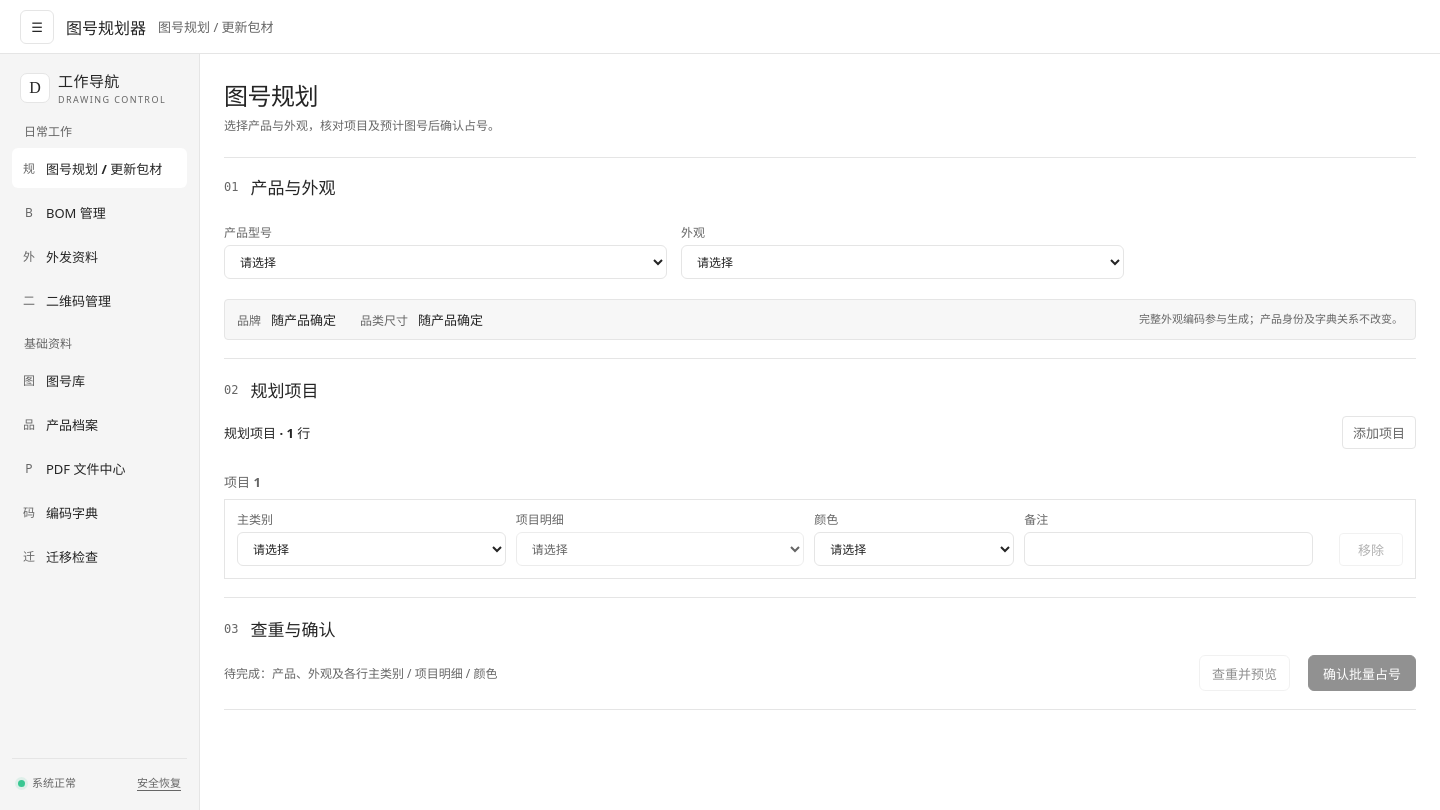
Test: safe recovery surface › shows an explicit desktop-only explanation in browser preview
Click the button "安全恢复". click: (159,784)
box: [137, 773, 181, 794]
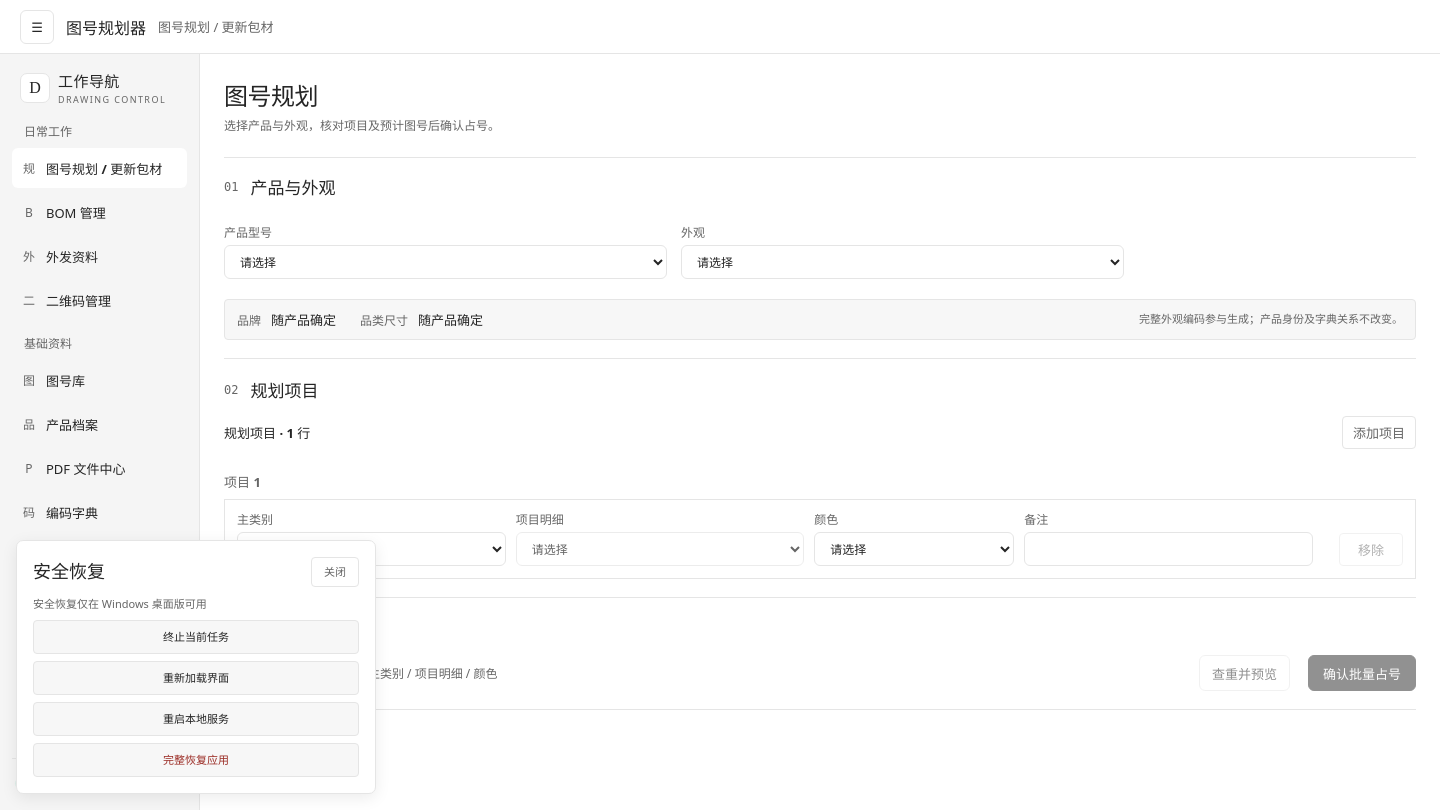
Now the text "安全恢复仅在 Windows 桌面版可用" is shown, box [33, 596, 207, 611]
Now the button "重启本地服务" is disabled, box [33, 702, 359, 736]
